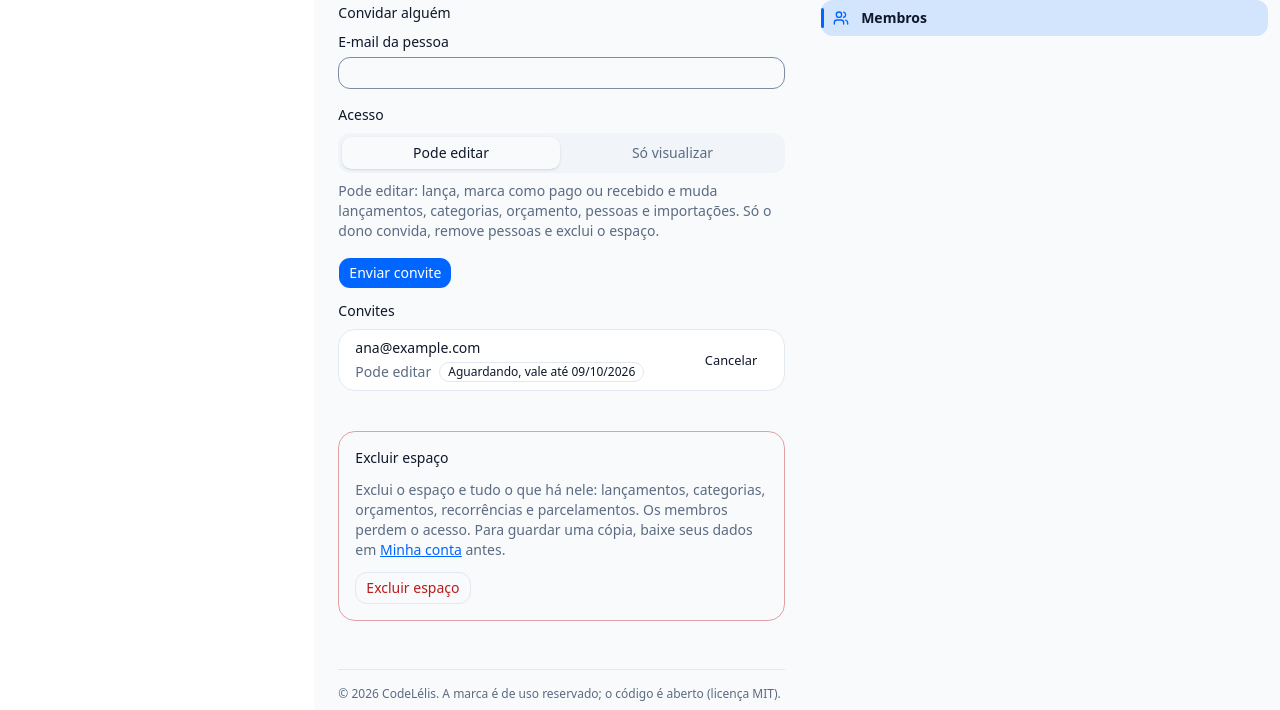
it: WorkspacePage › cancels a pending invitation
This screenshot has width=1280, height=710.
(page scrolled)
Click the button with aria-label "Cancelar convite de ana@example.com": (731, 360) top-left (694, 346), bottom-right (768, 374)
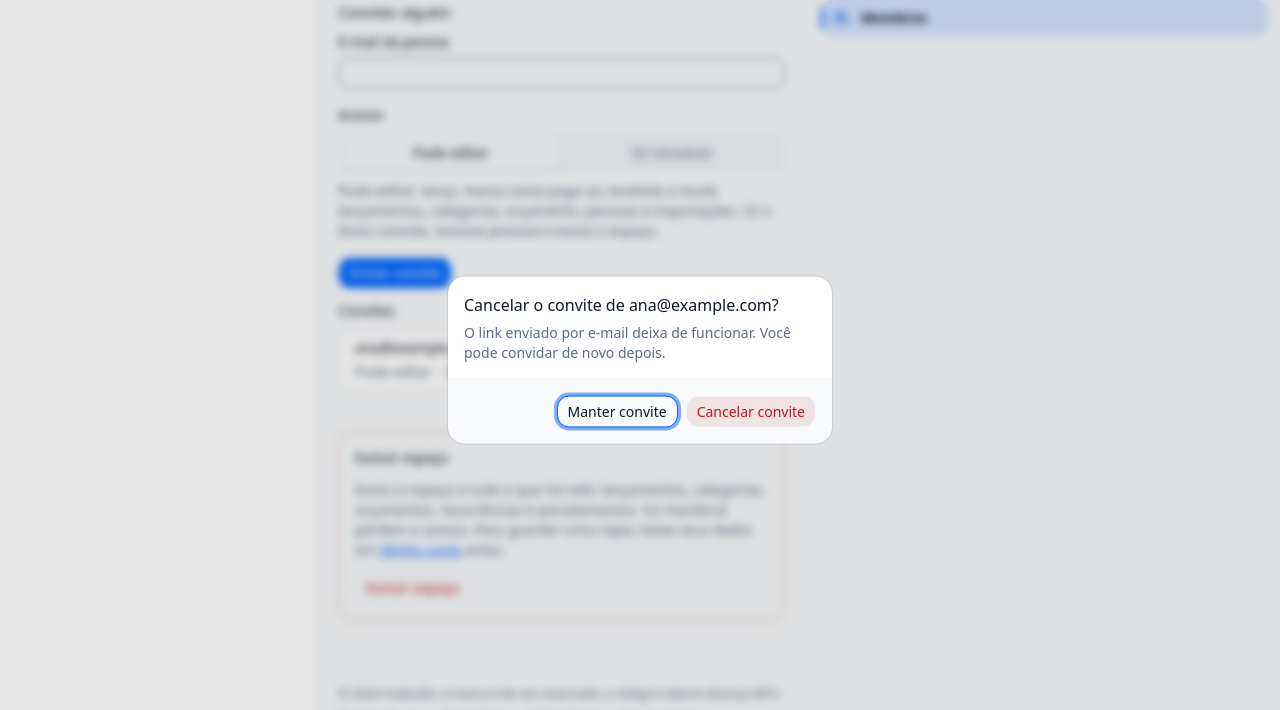
Click the button "Manter convite": (617, 412) top-left (556, 396), bottom-right (678, 428)
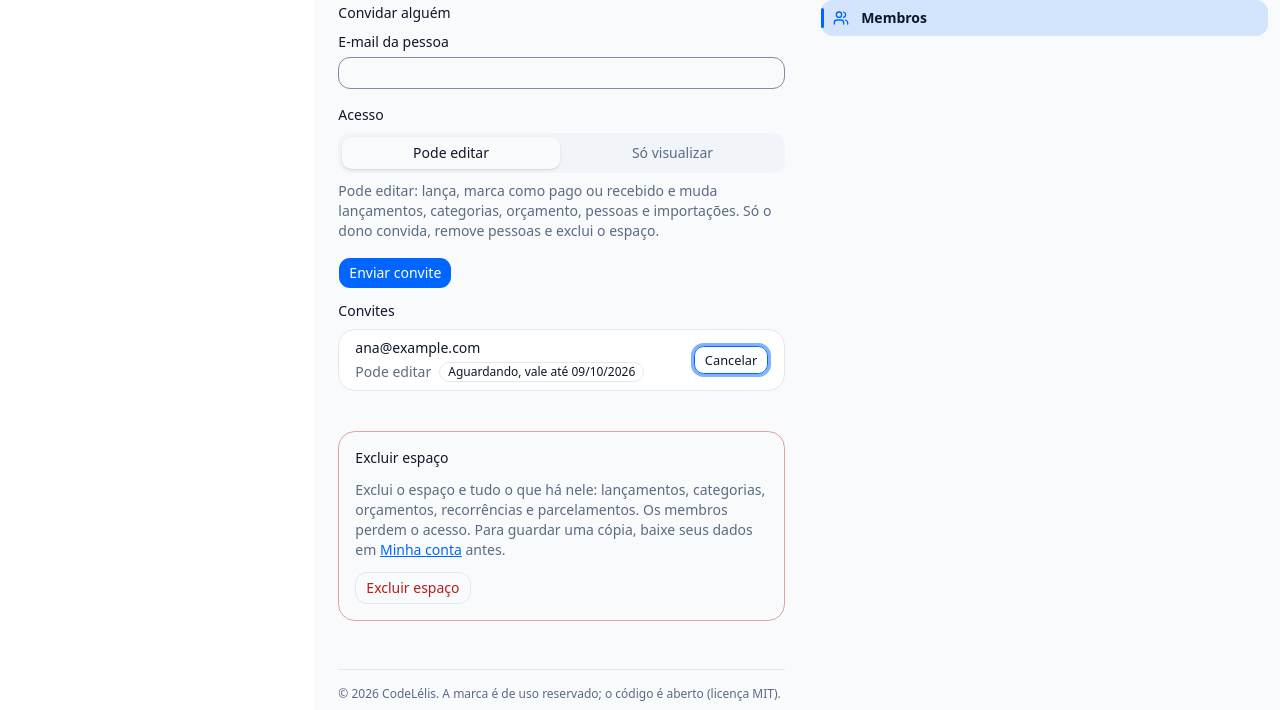
Click the button with aria-label "Cancelar convite de ana@example.com": (731, 360) top-left (694, 346), bottom-right (768, 374)
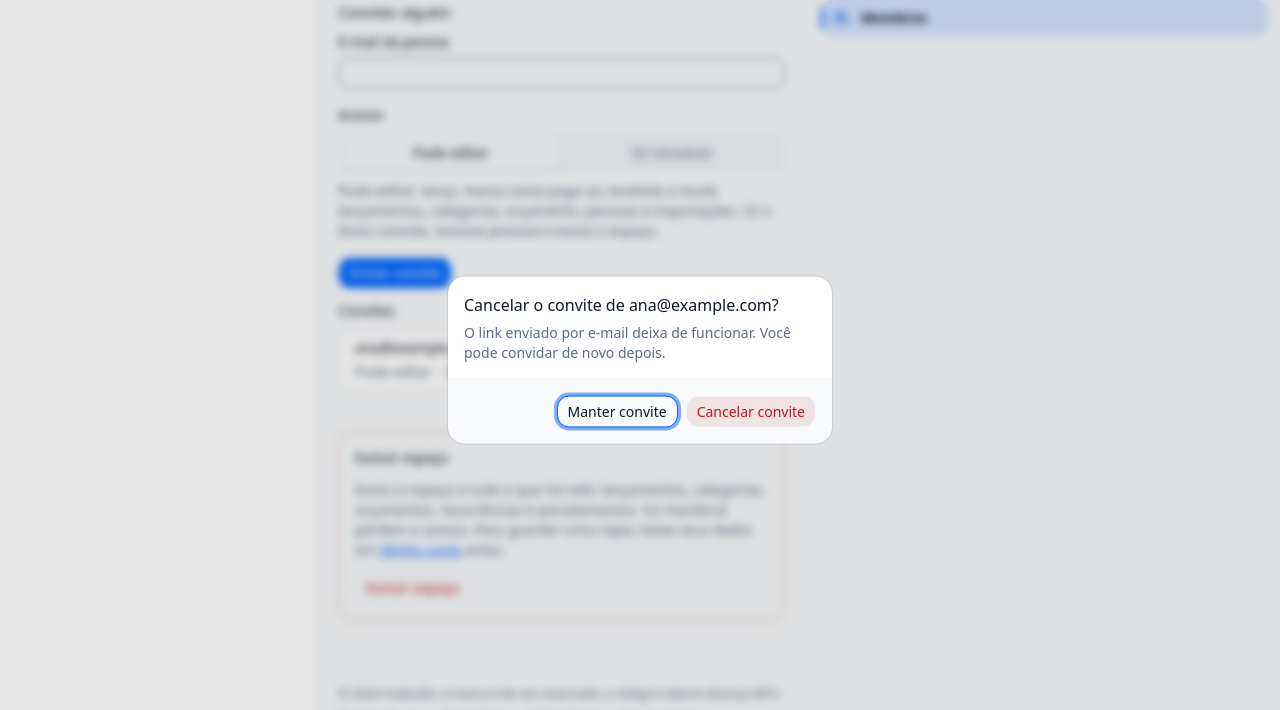
Click the button "Cancelar convite": (751, 412) top-left (686, 396), bottom-right (816, 428)
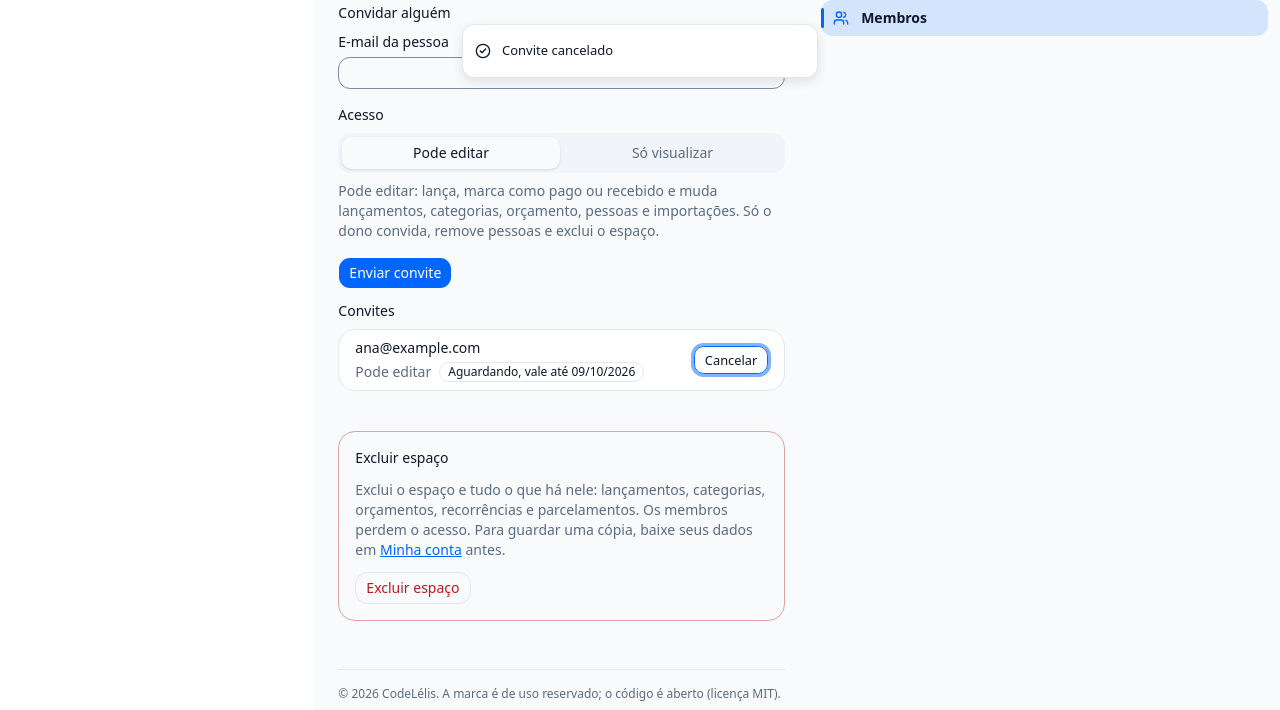
Result: the text "Convite cancelado" is shown at top-left (502, 41), bottom-right (613, 60)
